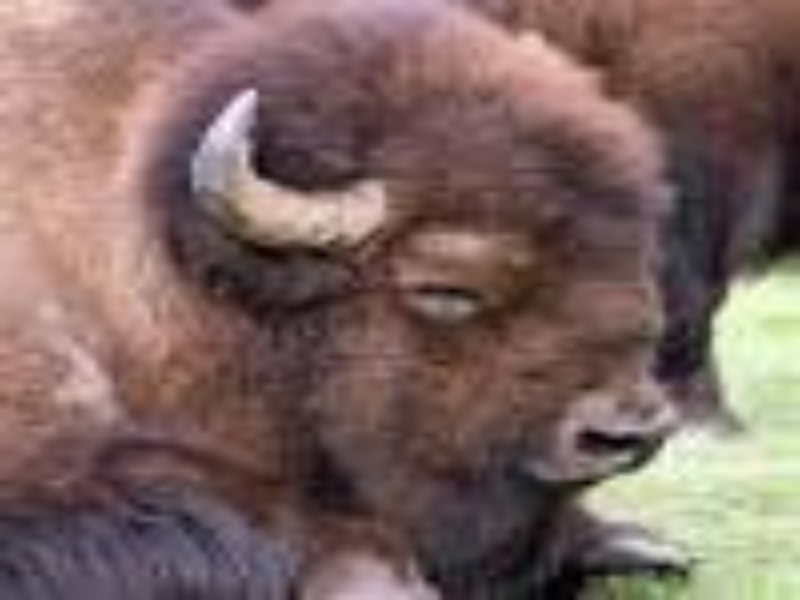buffalo: (62, 12, 693, 580)
